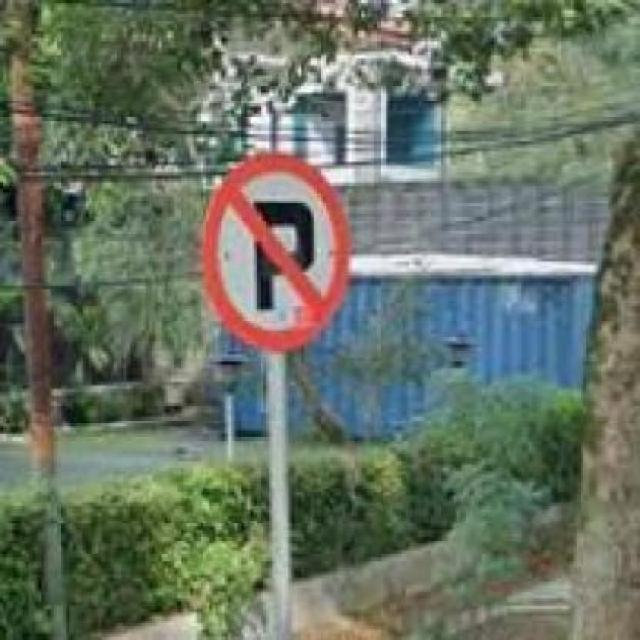no parking: (196, 151, 355, 354)
